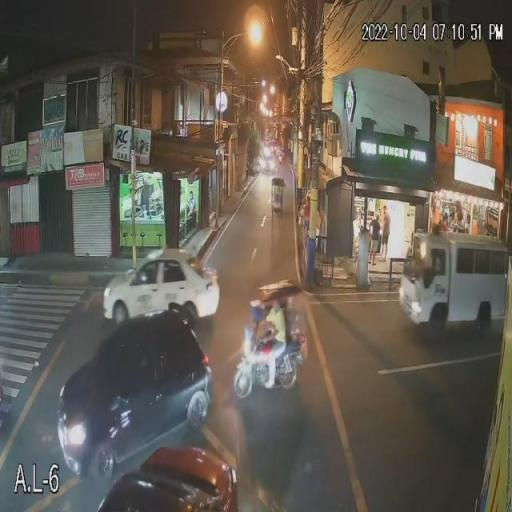motorcycle: (277, 151, 283, 165)
